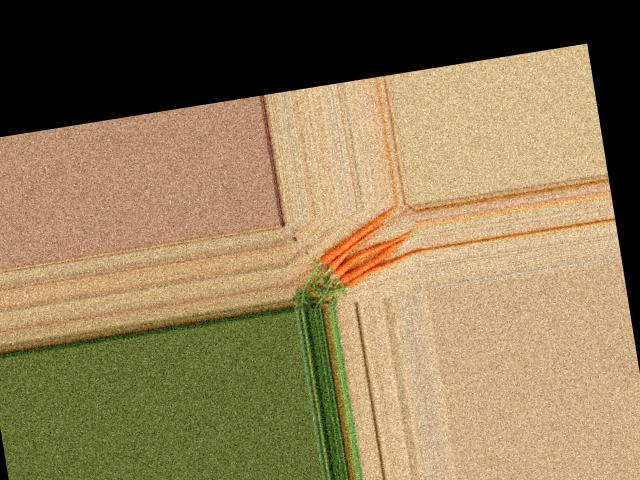carrot: (344, 248, 422, 290)
